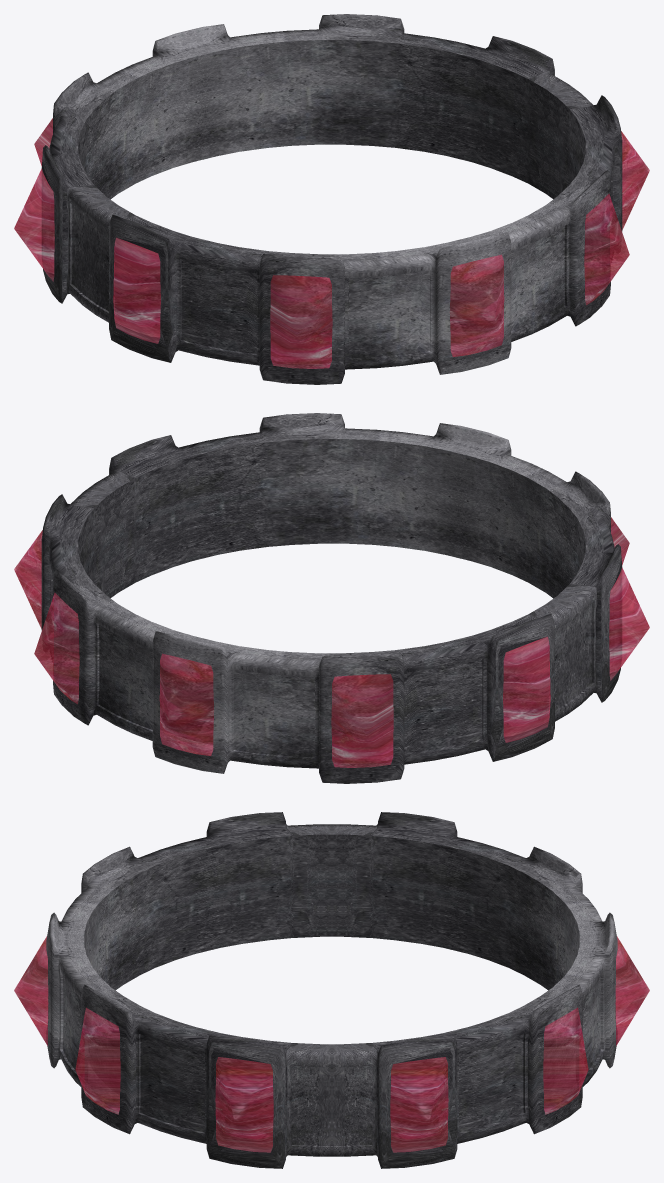
3 renders of one model, top to bottom at view 1: azimuth 30°, elevation 25°; view 2: azimuth 150°, elevation 25°; view 3: azimuth 270°, elevation 25°, orthographic. The views are drawn at different scales.
Visible parts, largest first — view 1: Aegon's Crown; view 2: Aegon's Crown; view 3: Aegon's Crown.
Boxes of the visible parts, left/top/right/bottom form: Aegon's Crown: left=14, top=14, right=649, bottom=384; Aegon's Crown: left=14, top=413, right=649, bottom=783; Aegon's Crown: left=14, top=812, right=649, bottom=1168.
Bounding box in the file's own units: 1599 × 367 × 1679.
Materials: 2 (2 with a texture image).
